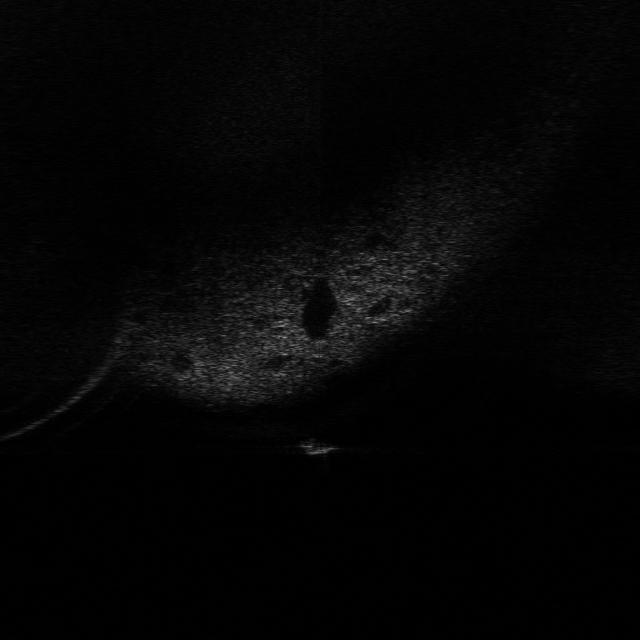cube: (300, 430, 346, 460)
